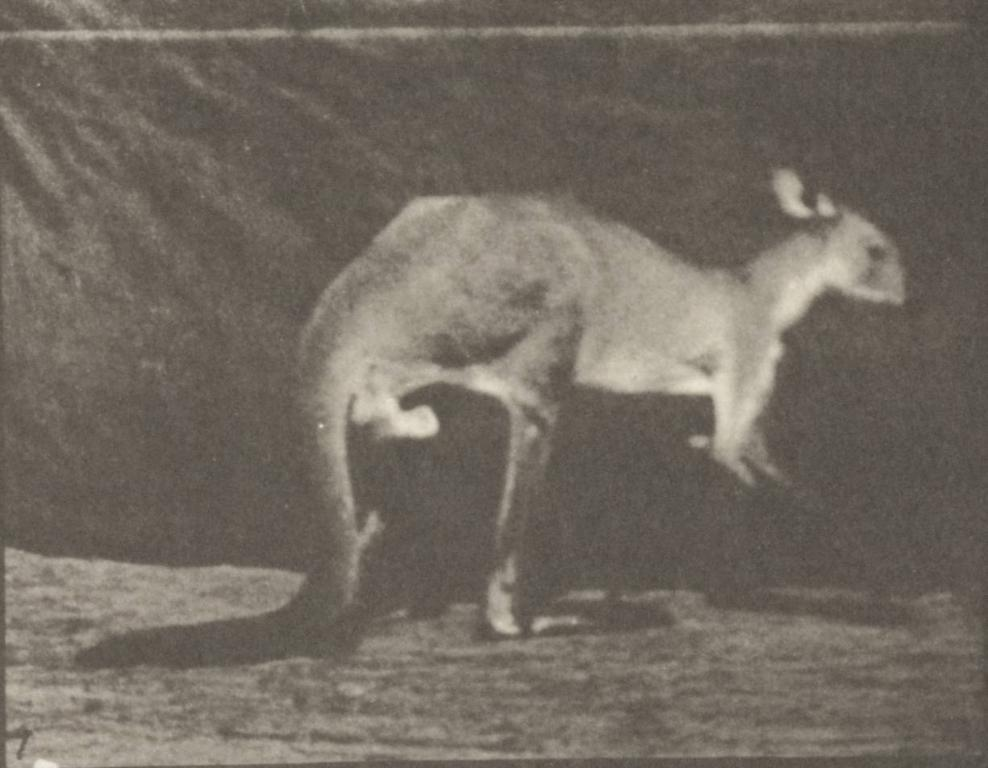kangaroo: (67, 165, 909, 664)
